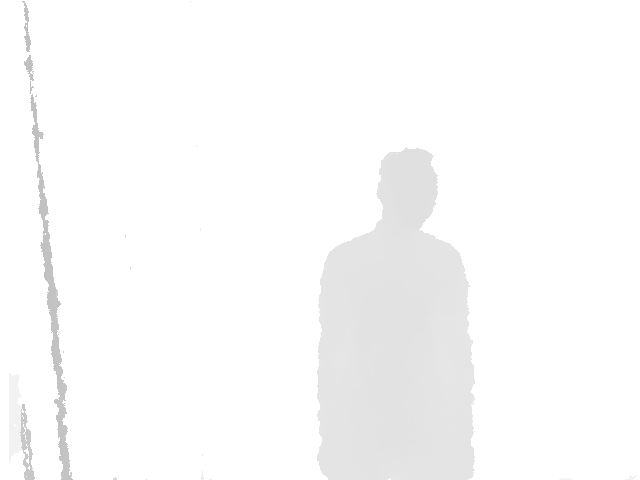head: (376, 148, 438, 229)
person: (315, 148, 476, 480)
